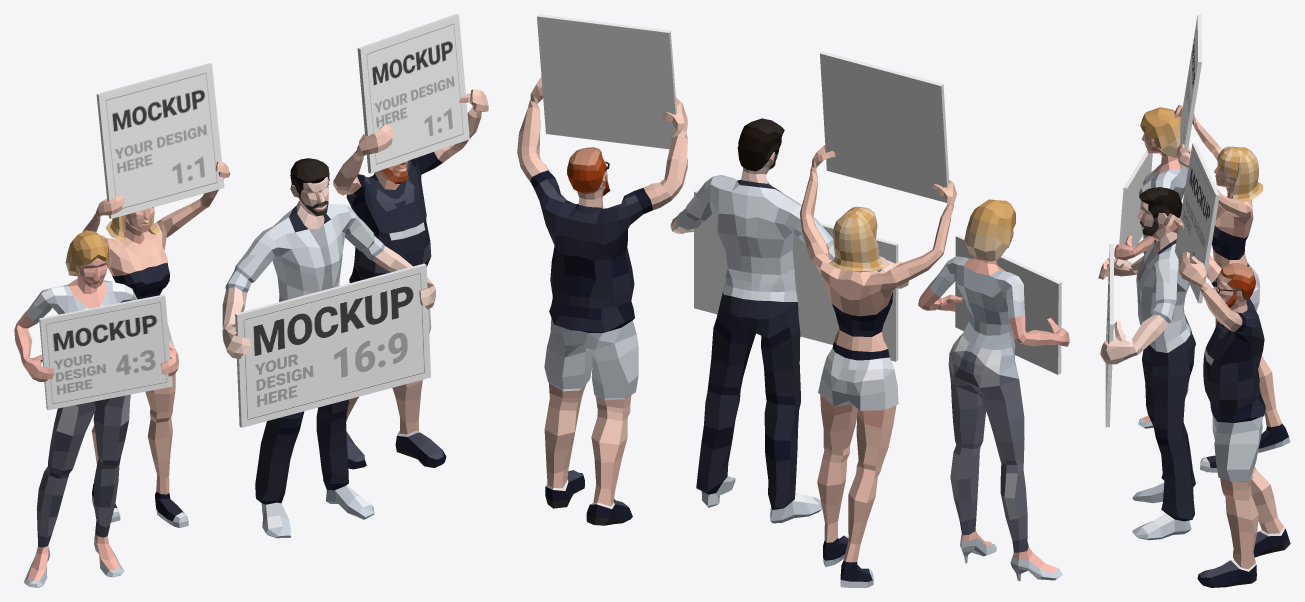
Rendered from people.glb.
3 views of the same model, side by side, from view 1: azimuth 30°, elevation 25°; view 2: azimuth 150°, elevation 25°; view 3: azimuth 270°, elevation 25° (orthographic). The views are drawn at different scales.
Parts seen in each view (by area): view 1: sign_16x9_000, casual_Male_G_peopleColors_0, casual_Female_G_peopleColors_0, sign_1x1_000, sign_1x1_001, casual_Male_K_peopleColors_0, sign_4x3_000, casual_Female_K_peopleColors_0; view 2: casual_Male_K_peopleColors_0, casual_Male_G_peopleColors_0, casual_Female_K_peopleColors_0, casual_Female_G_peopleColors_0, sign_1x1_001, sign_1x1_000, sign_16x9_000, sign_4x3_000; view 3: casual_Male_K_peopleColors_0, casual_Male_G_peopleColors_0, casual_Female_K_peopleColors_0, casual_Female_G_peopleColors_0, sign_1x1_001, sign_4x3_000, sign_1x1_000, sign_16x9_000.
Part boxes in pixels (x1=…): sign_16x9_000: x1=235, y1=263, x2=430, y2=427; casual_Male_G_peopleColors_0: x1=222, y1=158, x2=435, y2=538; casual_Female_G_peopleColors_0: x1=14, y1=230, x2=178, y2=587; sign_1x1_000: x1=96, y1=63, x2=224, y2=218; sign_1x1_001: x1=357, y1=14, x2=469, y2=173; casual_Male_K_peopleColors_0: x1=333, y1=89, x2=488, y2=469; sign_4x3_000: x1=39, y1=294, x2=172, y2=410; casual_Female_K_peopleColors_0: x1=82, y1=161, x2=230, y2=527; casual_Male_K_peopleColors_0: x1=517, y1=76, x2=687, y2=525; casual_Male_G_peopleColors_0: x1=670, y1=118, x2=908, y2=523; casual_Female_K_peopleColors_0: x1=799, y1=145, x2=956, y2=587; casual_Female_G_peopleColors_0: x1=918, y1=199, x2=1069, y2=581; sign_1x1_001: x1=537, y1=14, x2=676, y2=149; sign_1x1_000: x1=820, y1=51, x2=949, y2=202; sign_16x9_000: x1=694, y1=190, x2=898, y2=361; sign_4x3_000: x1=955, y1=235, x2=1061, y2=374; casual_Male_K_peopleColors_0: x1=1163, y1=213, x2=1290, y2=587; casual_Male_G_peopleColors_0: x1=1098, y1=187, x2=1195, y2=540; casual_Female_K_peopleColors_0: x1=1174, y1=105, x2=1290, y2=472; casual_Female_G_peopleColors_0: x1=1114, y1=107, x2=1191, y2=428; sign_1x1_001: x1=1174, y1=143, x2=1219, y2=303; sign_4x3_000: x1=1119, y1=150, x2=1152, y2=260; sign_1x1_000: x1=1180, y1=14, x2=1201, y2=171; sign_16x9_000: x1=1105, y1=243, x2=1113, y2=427.
Bounding box in the file's own units: 2.54 × 2.32 × 0.962.
Materials: 4 (4 with a texture image).
